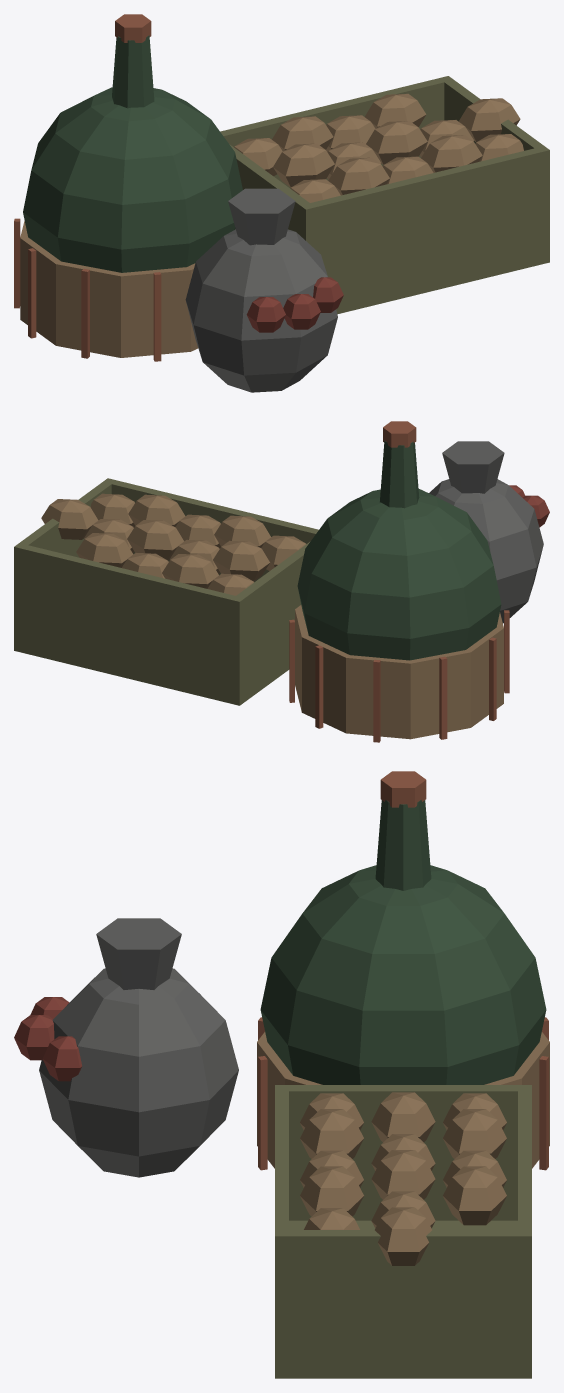
The model's file is colt_camara.glb.
3 views of the same model, one above another, from view 1: azimuth 30°, elevation 25°; view 2: azimuth 150°, elevation 25°; view 3: azimuth 270°, elevation 25° (orthographic). The views are drawn at different scales.
Visible parts, largest first — view 1: ColtCamara; view 2: ColtCamara; view 3: ColtCamara.
Part boxes in pixels (left/top/right/bottom): ColtCamara: left=14, top=14, right=549, bottom=392; ColtCamara: left=14, top=421, right=549, bottom=742; ColtCamara: left=14, top=771, right=549, bottom=1378.
Bounding box in the file's own units: 0.9927 × 0.579 × 0.75.
